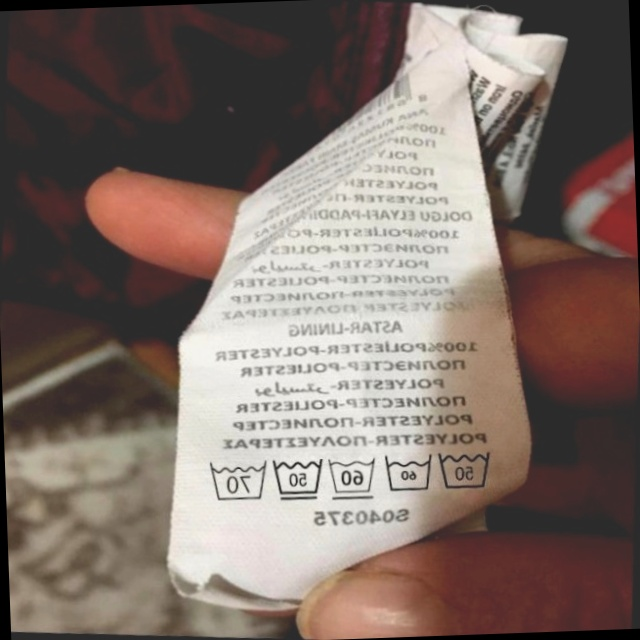50C: (432, 441, 499, 497), (267, 452, 327, 506)
60C: (322, 450, 379, 503), (378, 448, 436, 499)
70C: (201, 455, 269, 506)
